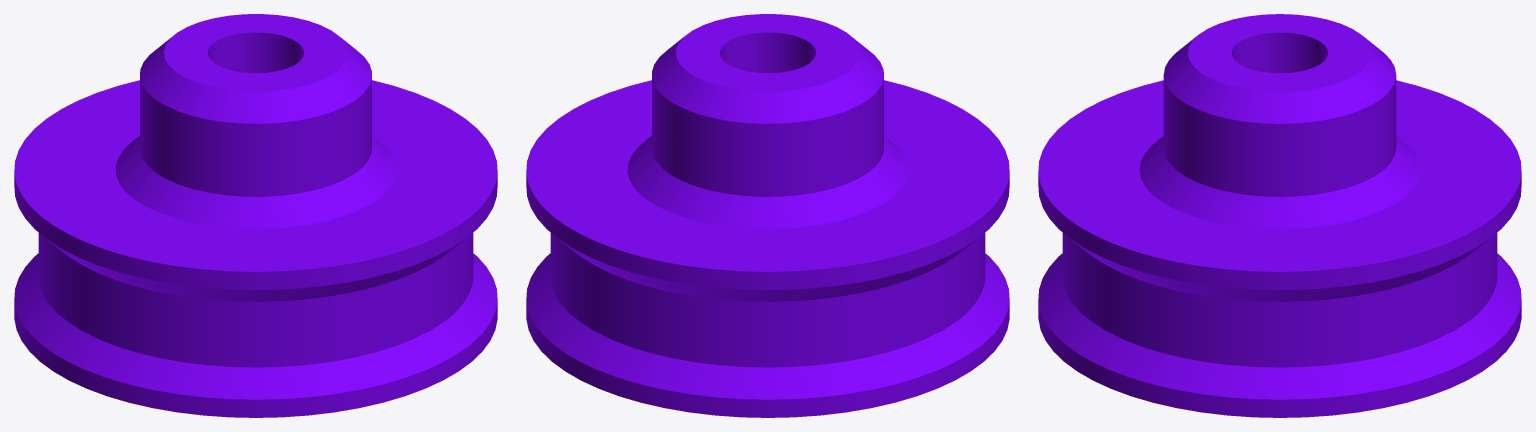
The model's file is Cube 1x1 V5_Z Axis Handle_1.obj.
The picture shows the model from 3 angles, left to right: view 1: azimuth 30°, elevation 25°; view 2: azimuth 150°, elevation 25°; view 3: azimuth 270°, elevation 25°; orthographic projection.
Parts seen in each view (by area): view 1: Solid1:40; view 2: Solid1:40; view 3: Solid1:40.
Part boxes in pixels (bbox=[...]): Solid1:40: bbox=[14, 14, 497, 417]; Solid1:40: bbox=[526, 14, 1009, 417]; Solid1:40: bbox=[1038, 14, 1521, 417].
Bounding box in the file's own units: 30 × 18 × 29.99.
